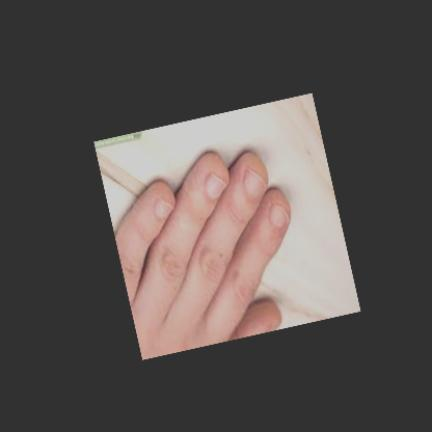Nail: (244, 168, 267, 197), (205, 172, 227, 199), (269, 203, 289, 229), (155, 198, 174, 220)
